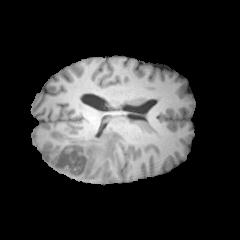glioma: (45, 128, 125, 178)
